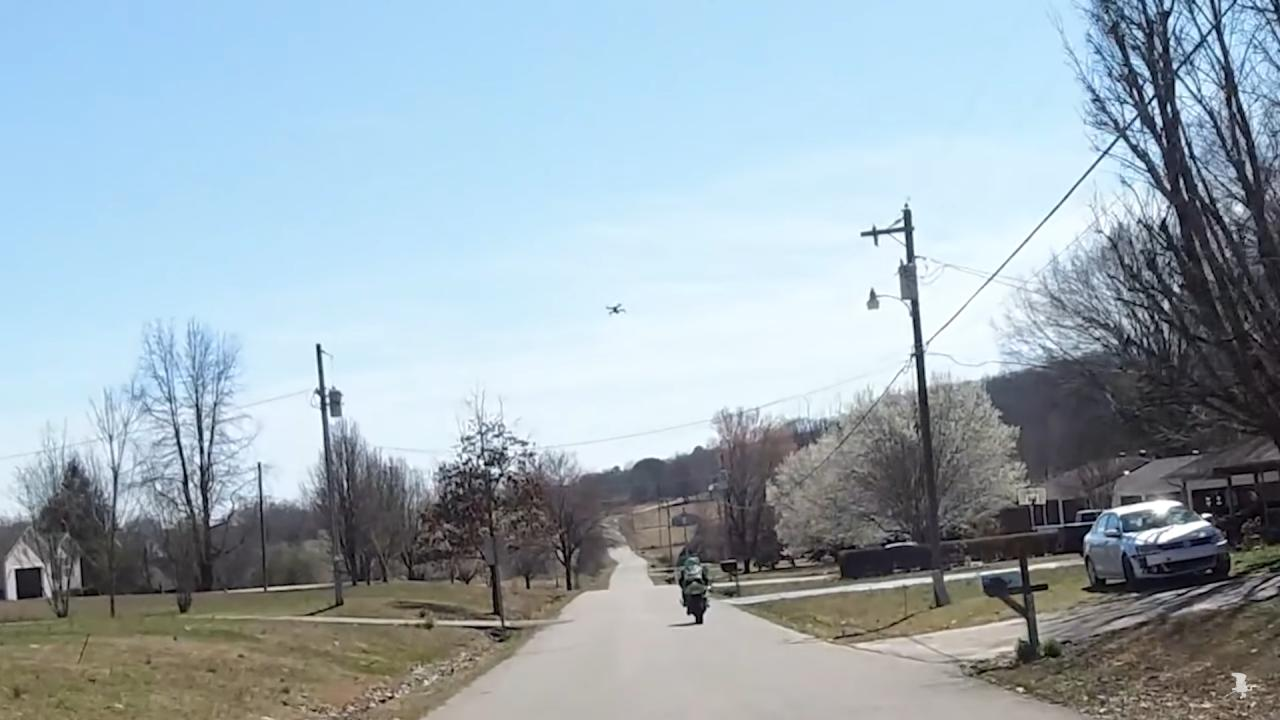Drone: (598, 294, 632, 322)
